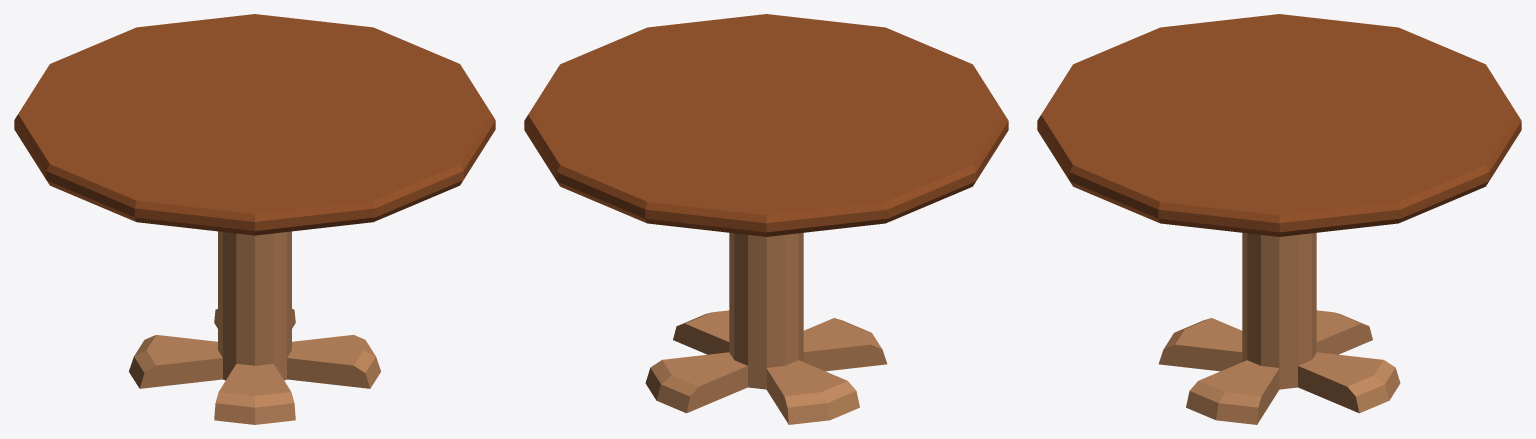
The model's file is table1.fbx.
3 renders of one model, left to right at view 1: azimuth 30°, elevation 25°; view 2: azimuth 150°, elevation 25°; view 3: azimuth 270°, elevation 25°, orthographic.
Visible parts, largest first — view 1: Cylinder.007; view 2: Cylinder.007; view 3: Cylinder.007.
Boxes of the visible parts, x1,y1,x2,y2 form: Cylinder.007: [14, 14, 495, 424]; Cylinder.007: [524, 14, 1008, 424]; Cylinder.007: [1037, 14, 1521, 424].
Size of the model in its own units: 203 by 120 by 203.
Materials: 1 (1 with a texture image).
